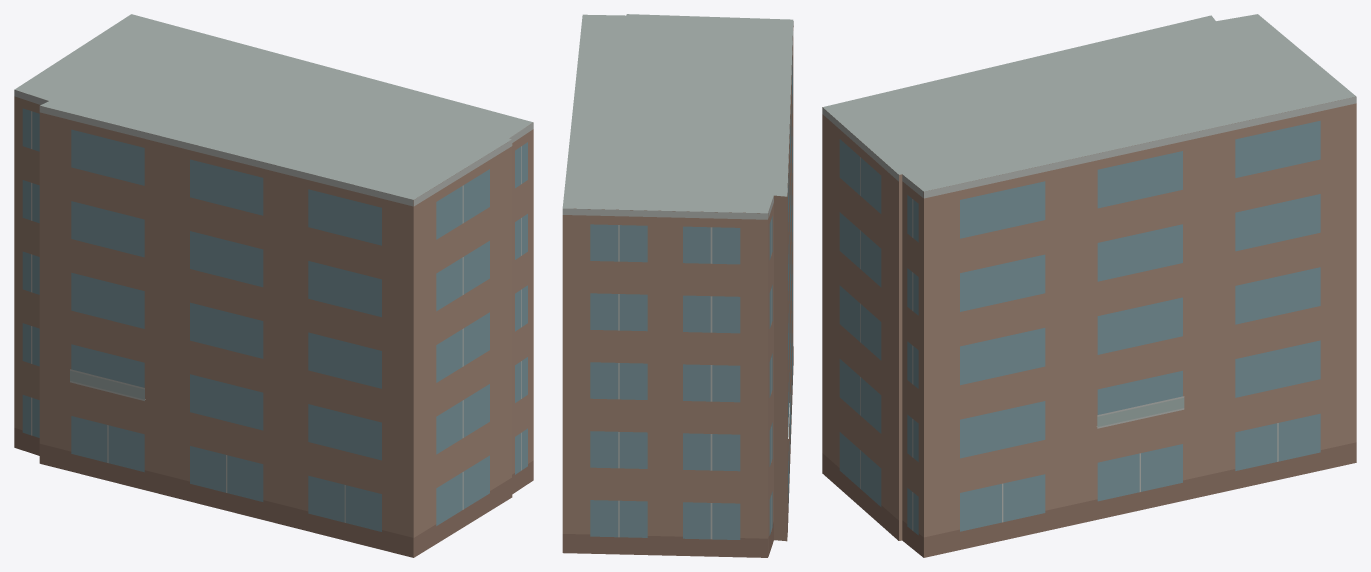
File: survey-upis-32646703.glb
3 renders of one model, left to right at view 1: azimuth 30°, elevation 25°; view 2: azimuth 150°, elevation 25°; view 3: azimuth 270°, elevation 25°, orthographic. The views are drawn at different scales.
Parts seen in each view (by area): view 1: survey-upis-32646703.tmp; view 2: survey-upis-32646703.tmp; view 3: survey-upis-32646703.tmp.
Part boxes in pixels (<box>): survey-upis-32646703.tmp: <box>14,14,533,557</box>; survey-upis-32646703.tmp: <box>562,14,793,557</box>; survey-upis-32646703.tmp: <box>822,14,1356,557</box>.
Bounding box in the file's own units: 13.53 × 13 × 17.19.
